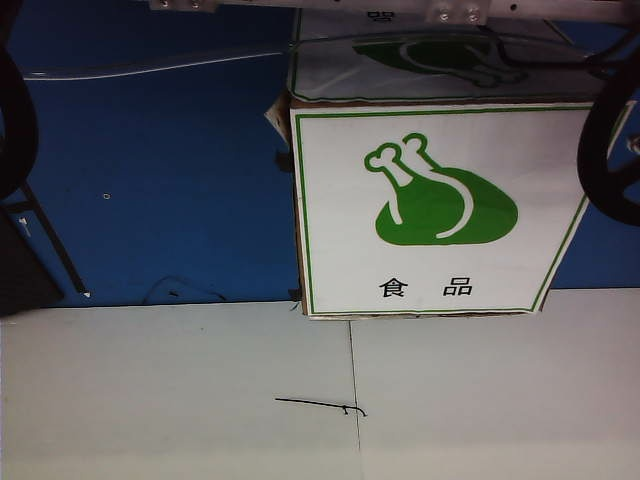Cube_food: (358, 127, 523, 300)
